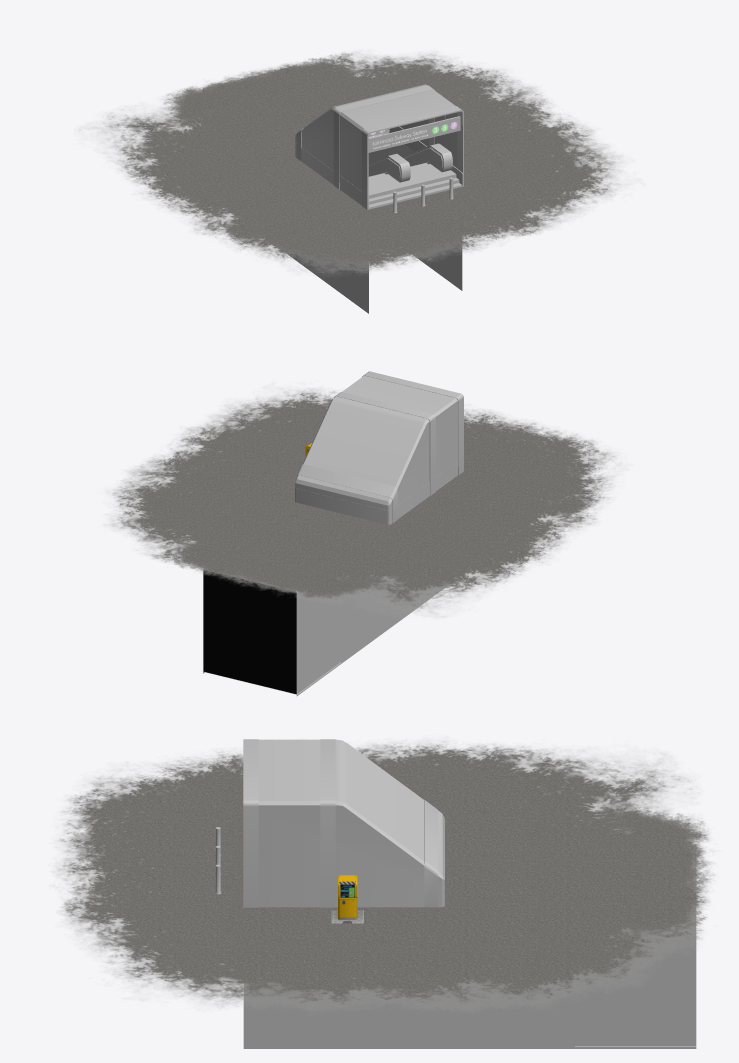
3 views of the same model, one above another, from view 1: azimuth 30°, elevation 25°; view 2: azimuth 150°, elevation 25°; view 3: azimuth 270°, elevation 25° (orthographic). The views are drawn at different scales.
Parts seen in each view (by area): view 1: Ground, Glass, Wall, Opora_low, Steps_low, Screens_low.001, Fundament, HandlerLeft_low.001, Handler_Center_low; view 2: Ground, Glass, Black, Wall, Fundament, Opora_low, Opora_low.001; view 3: Ground, Wall, Glass, Opora_low, Fundament, Opora_low.001.
Part boxes in pixels (x1,y1,x2,y2): Ground: [78, 51, 640, 274]; Glass: [295, 84, 457, 190]; Wall: [203, 89, 462, 313]; Opora_low: [333, 85, 463, 209]; Steps_low: [368, 164, 462, 209]; Screens_low.001: [368, 116, 460, 152]; Fundament: [295, 126, 462, 209]; HandlerLeft_low.001: [402, 145, 444, 172]; Handler_Center_low: [368, 154, 410, 182]; Ground: [104, 387, 627, 617]; Glass: [295, 375, 457, 510]; Black: [203, 570, 296, 694]; Wall: [203, 570, 456, 696]; Fundament: [295, 461, 457, 524]; Opora_low: [334, 371, 463, 495]; Opora_low.001: [296, 464, 397, 523]; Ground: [52, 740, 715, 1011]; Wall: [243, 866, 696, 1048]; Glass: [258, 739, 444, 887]; Opora_low: [243, 739, 335, 907]; Fundament: [258, 887, 444, 907]; Opora_low.001: [424, 800, 437, 907].
Bounding box in the file's own units: 21.7 × 8.51 × 21.7.
